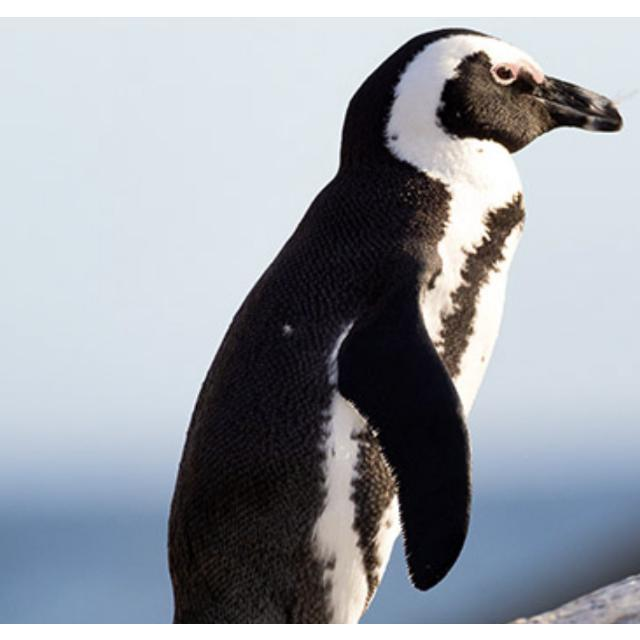penguin: (168, 26, 626, 623)
